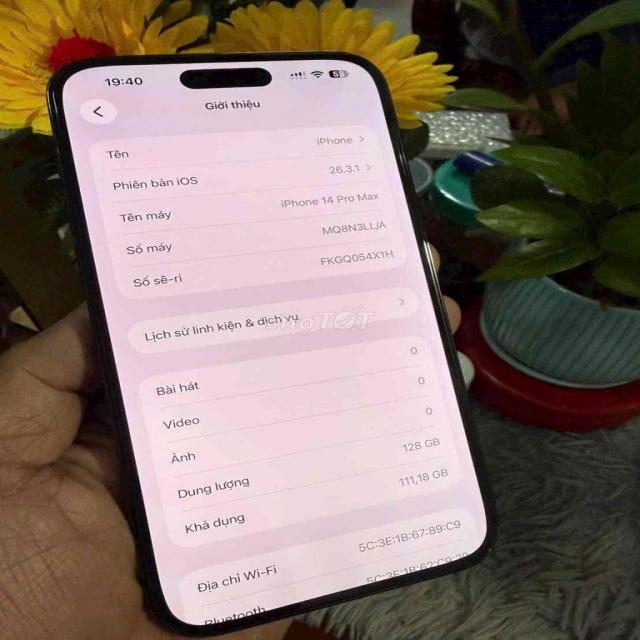gen_14: (46, 48, 517, 629)
